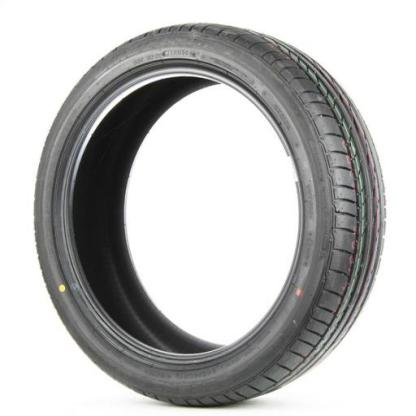Tire: (33, 23, 389, 409)
